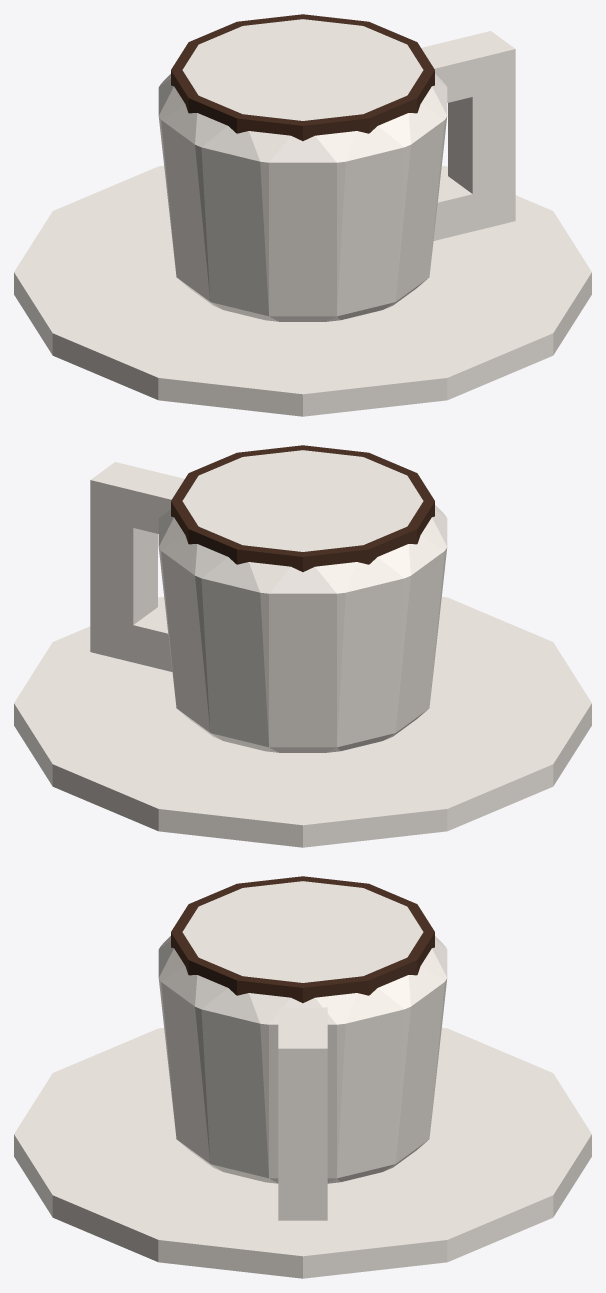
File: CatCafe_Decor_Cup.fbx
3 renders of one model, top to bottom at view 1: azimuth 30°, elevation 25°; view 2: azimuth 150°, elevation 25°; view 3: azimuth 270°, elevation 25°, orthographic.
Visible parts, largest first — view 1: CatCafe_Decor_Cup; view 2: CatCafe_Decor_Cup; view 3: CatCafe_Decor_Cup.
Boxes of the visible parts, x1,y1,x2,y2 form: CatCafe_Decor_Cup: (14,14,591,416); CatCafe_Decor_Cup: (14,445,591,847); CatCafe_Decor_Cup: (14,876,591,1278).
Size of the model in its own units: 0.7 by 0.3 by 0.7.
1 material, 1 textured.
